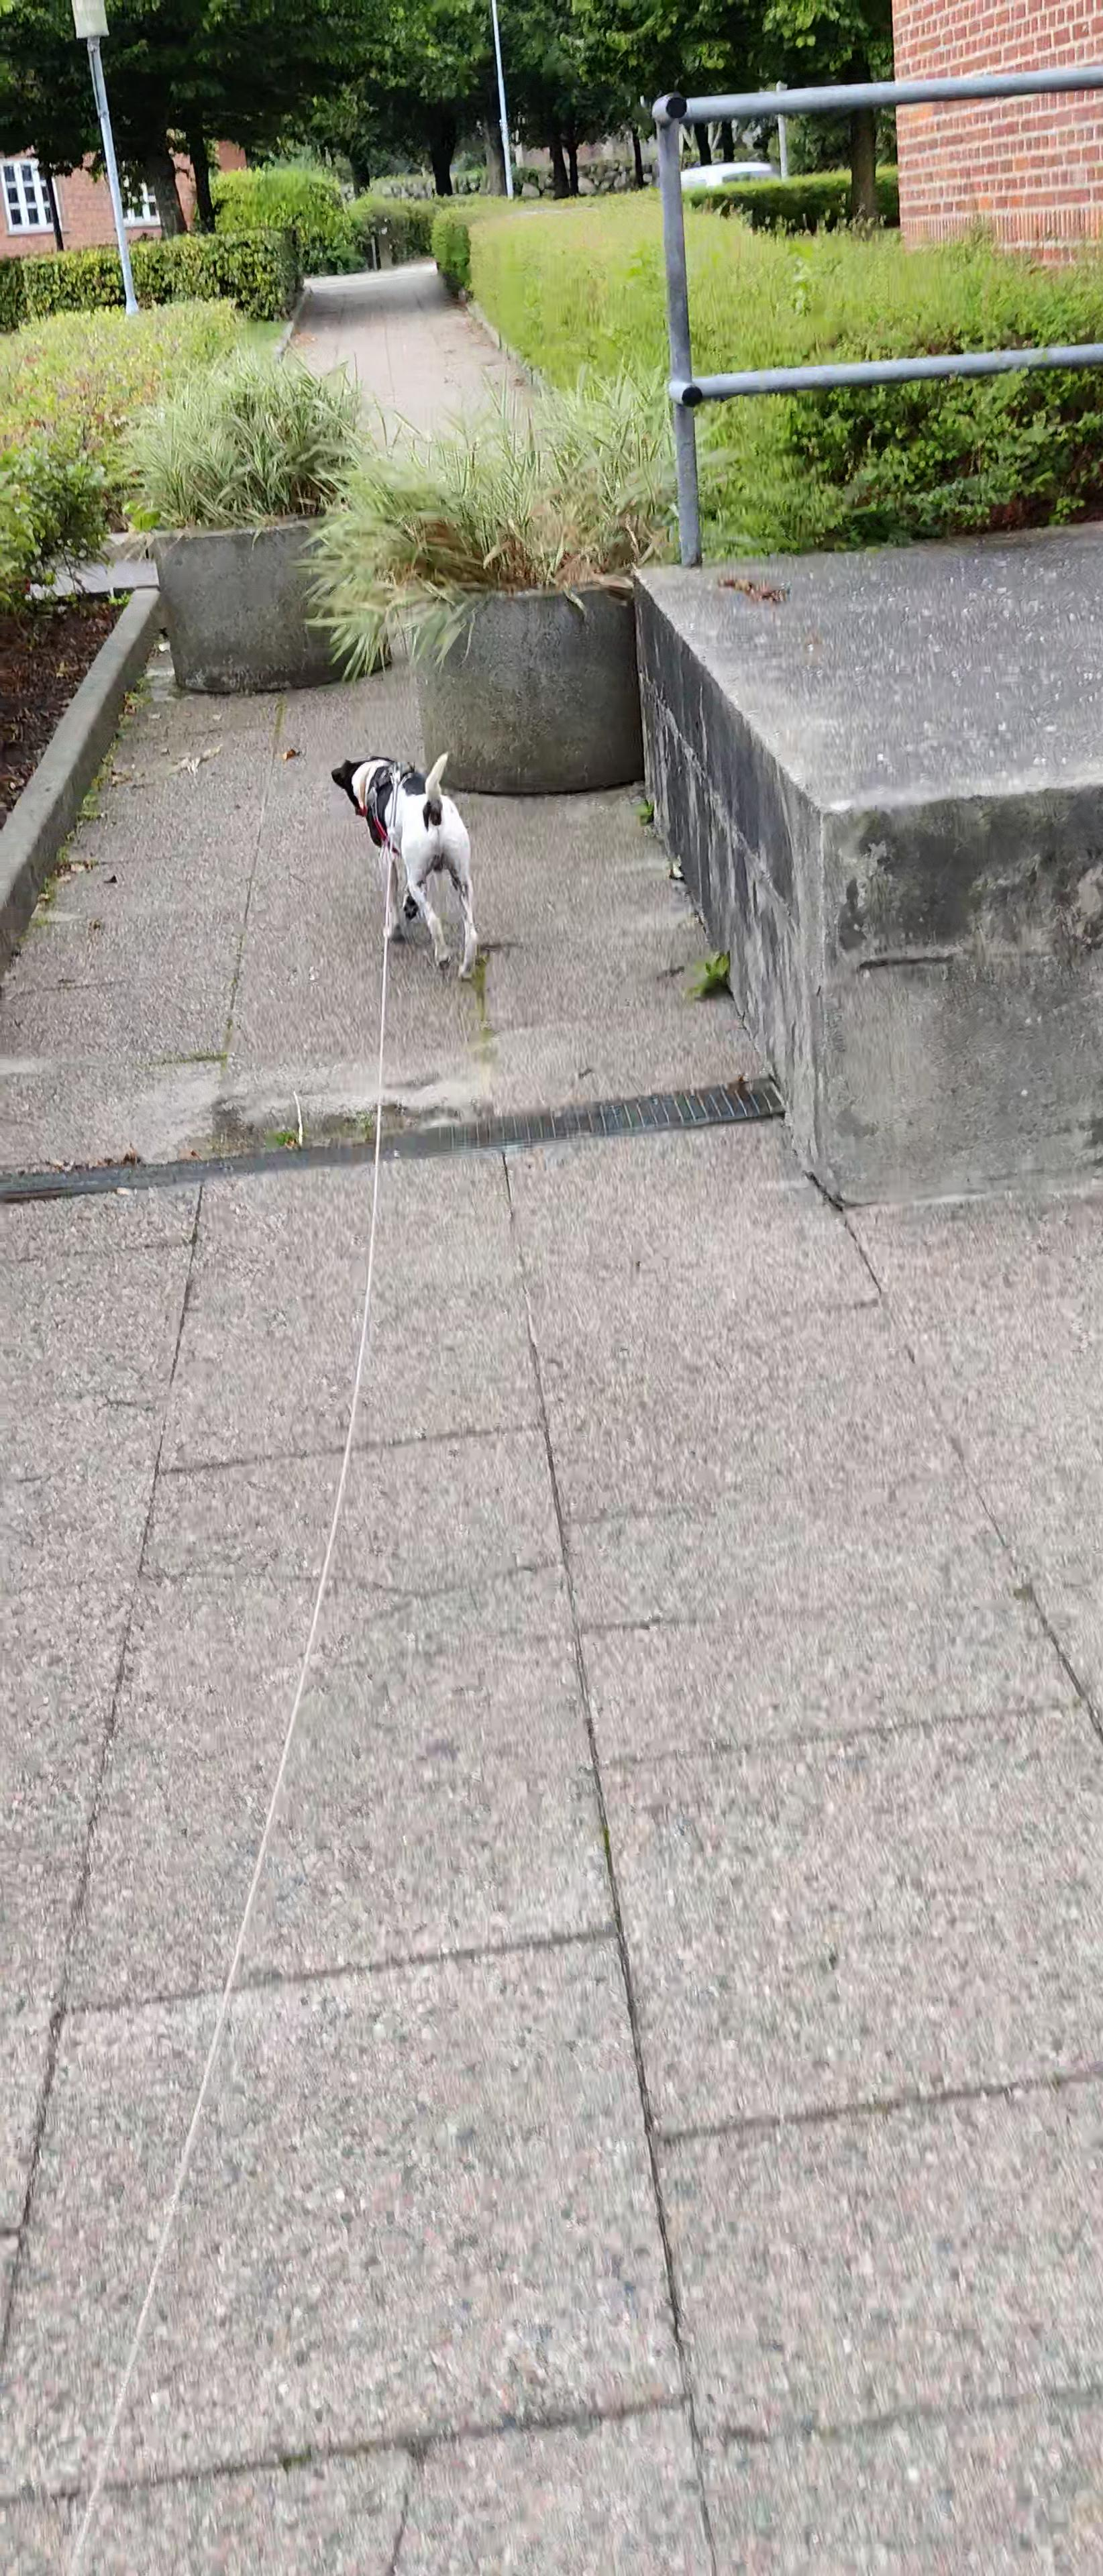Dog: (329, 751, 483, 982)
